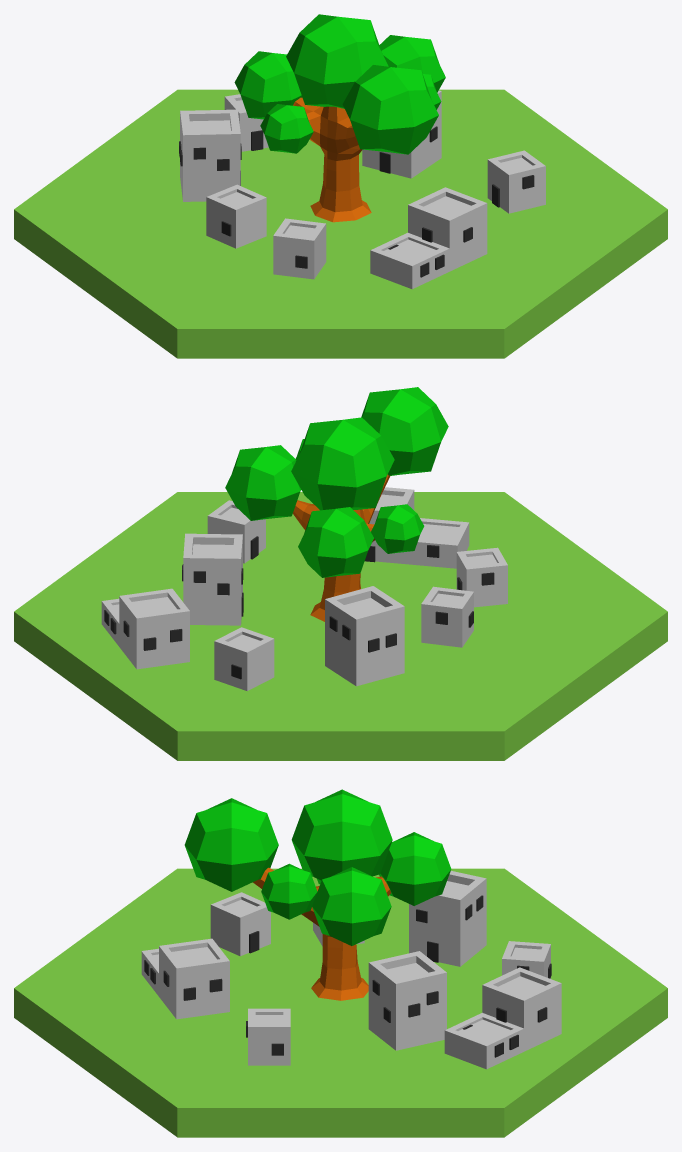
The model's file is Town.fbx.
3 renders of one model, top to bottom at view 1: azimuth 30°, elevation 25°; view 2: azimuth 150°, elevation 25°; view 3: azimuth 270°, elevation 25°, orthographic.
Parts seen in each view (by area): view 1: Cylinder; view 2: Cylinder; view 3: Cylinder.
Boxes of the visible parts, x1,y1,x2,y2 form: Cylinder: (14,14,667,358); Cylinder: (14,387,667,760); Cylinder: (14,789,667,1137).
Size of the model in its own units: 173 by 75.09 by 200.
